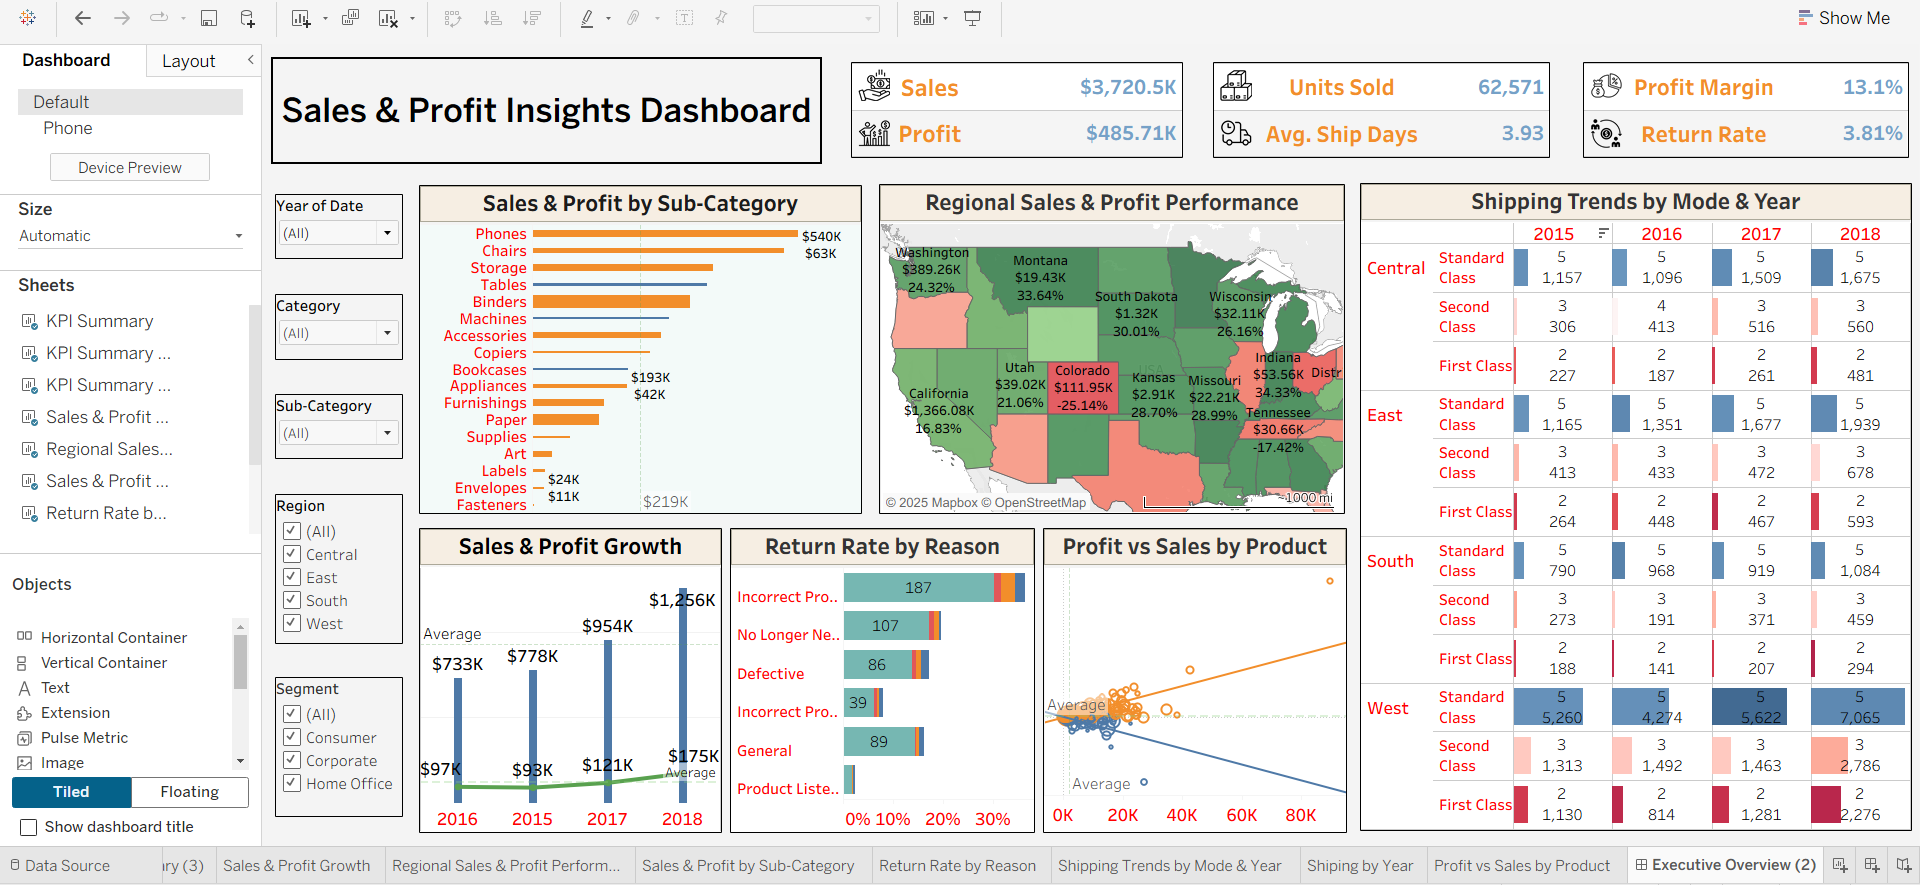

What the dashboard file says about the page in this screenshot:
{"tool":"tableau","page":{"name":"Executive Overview (2)","canvas":[1000,1000],"units":"permille","ordinal":0},"visuals":[{"type":"text","box":[5.4,16.2,332.5,133.6]},{"type":"worksheet","title":"KPI Summary","mark":"Automatic","box":[355.5,22.5,200.4,119.9]},{"type":"worksheet","title":"KPI Summary (3)","mark":"Automatic","box":[573.9,22.5,203.4,119.9]},{"type":"worksheet","title":"KPI Summary (2)","mark":"Automatic","box":[797.2,22.5,196.7,119.9]},{"type":"image","param":"C:/Users/Danish Shaikh/Downloads/receive-amount.png","box":[359.7,31.2,19.3,40]},{"type":"image","param":"C:/Users/Danish Shaikh/Downloads/boxes.png","box":[578.1,31.2,19.3,40]},{"type":"image","param":"C:/Users/Danish Shaikh/Downloads/margin.png","box":[801.5,31.2,19.3,40]},{"type":"image","param":"C:/Users/Danish Shaikh/Downloads/growth.png","box":[359.7,91.1,19.3,40]},{"type":"image","param":"C:/Users/Danish Shaikh/Downloads/delivery-car.png","box":[578.1,91.1,19.3,40]},{"type":"image","param":"C:/Users/Danish Shaikh/Downloads/conversion-rate.png","box":[801.5,91.1,19.3,40]},{"type":"worksheet","title":"Shipping Trends by Mode & Year","mark":"Bar","rows":["Region","Ship Mode"],"cols":["Order Date"],"box":[662.6,173.5,333.1,809]},{"type":"worksheet","title":"Regional Sales & Profit Performance","mark":"Multipolygon","box":[372.4,174.8,281.2,412]},{"type":"worksheet","title":"Sales & Profit by Sub-Category","mark":"Bar","rows":["Sub-Category"],"cols":["Sales"],"box":[94.8,176,267.4,410.7]},{"type":"filter","title":"Sales & Profit Growth","param":"[federated.0nuhpfb1hzr5y91dgn0pr018a5cw].[yr:Calculation_935059918231089156:ok]","box":[7.9,187.3,77.2,81.2]},{"type":"filter","title":"Regional Sales & Profit Performance","param":"[federated.0nuhpfb1hzr5y91dgn0pr018a5cw].[none:Category:nk]","box":[7.9,312.1,77.2,82.4]},{"type":"filter","title":"Regional Sales & Profit Performance","param":"[federated.0nuhpfb1hzr5y91dgn0pr018a5cw].[none:Sub-Category:nk]","box":[7.9,436.9,77.2,81.2]},{"type":"filter","title":"Regional Sales & Profit Performance","param":"[federated.0nuhpfb1hzr5y91dgn0pr018a5cw].[none:Region:nk]","box":[7.9,561.8,77.2,187.3]},{"type":"worksheet","title":"Sales & Profit Growth","mark":"Line","rows":["Sales","Profit"],"cols":["Calculation_935059918231089156"],"box":[92.3,599.2,187.7,390.8]},{"type":"worksheet","title":"Return Rate by Reason","mark":"Automatic","rows":["Return Reason"],"box":[280,599.2,188.9,390.8]},{"type":"worksheet","title":"Profit vs Sales by Product","mark":"Automatic","rows":["Profit"],"cols":["Sales"],"box":[468.9,599.2,188.3,390.8]},{"type":"filter","title":"Profit vs Sales by Product","param":"[federated.0nuhpfb1hzr5y91dgn0pr018a5cw].[none:Segment:nk]","box":[7.9,790.3,77.2,174.8]}]}

Visuals, with their boxes on the dashboard's canvas, which has no fixed pixel size, in thousandths of its width and height (x1, y1, x2, y2). These are canvas units, not pixel positions in the 1920x885 screenshot, which may show the page scaled, cropped or inside an application window:
text: {"x1": 5, "y1": 16, "x2": 338, "y2": 150}
"KPI Summary" worksheet: {"x1": 356, "y1": 22, "x2": 556, "y2": 142}
"KPI Summary (3)" worksheet: {"x1": 574, "y1": 22, "x2": 777, "y2": 142}
"KPI Summary (2)" worksheet: {"x1": 797, "y1": 22, "x2": 994, "y2": 142}
image: {"x1": 360, "y1": 31, "x2": 379, "y2": 71}
image: {"x1": 578, "y1": 31, "x2": 597, "y2": 71}
image: {"x1": 802, "y1": 31, "x2": 821, "y2": 71}
image: {"x1": 360, "y1": 91, "x2": 379, "y2": 131}
image: {"x1": 578, "y1": 91, "x2": 597, "y2": 131}
image: {"x1": 802, "y1": 91, "x2": 821, "y2": 131}
"Shipping Trends by Mode & Year" worksheet (Bar marks): {"x1": 663, "y1": 174, "x2": 996, "y2": 982}
"Regional Sales & Profit Performance" worksheet (Multipolygon marks): {"x1": 372, "y1": 175, "x2": 654, "y2": 587}
"Sales & Profit by Sub-Category" worksheet (Bar marks): {"x1": 95, "y1": 176, "x2": 362, "y2": 587}
"Sales & Profit Growth" filter: {"x1": 8, "y1": 187, "x2": 85, "y2": 268}
"Regional Sales & Profit Performance" filter: {"x1": 8, "y1": 312, "x2": 85, "y2": 394}
"Regional Sales & Profit Performance" filter: {"x1": 8, "y1": 437, "x2": 85, "y2": 518}
"Regional Sales & Profit Performance" filter: {"x1": 8, "y1": 562, "x2": 85, "y2": 749}
"Sales & Profit Growth" worksheet (Line marks): {"x1": 92, "y1": 599, "x2": 280, "y2": 990}
"Return Rate by Reason" worksheet: {"x1": 280, "y1": 599, "x2": 469, "y2": 990}
"Profit vs Sales by Product" worksheet: {"x1": 469, "y1": 599, "x2": 657, "y2": 990}
"Profit vs Sales by Product" filter: {"x1": 8, "y1": 790, "x2": 85, "y2": 965}
